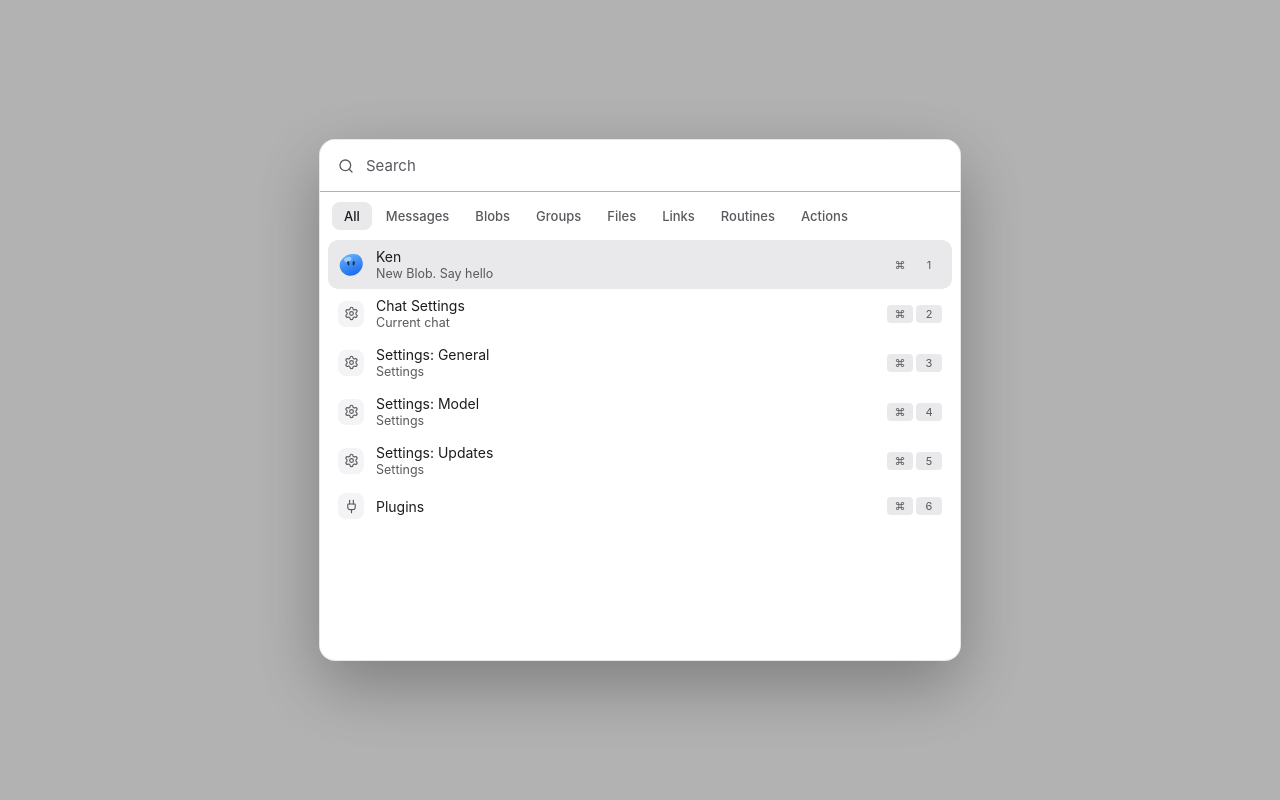
Test: SearchModal › finds the routines of a Blob the app never opened
The width and height of the screenshot is (1280, 800).
Click the button "Routines" at (748, 216), box [709, 202, 787, 230]
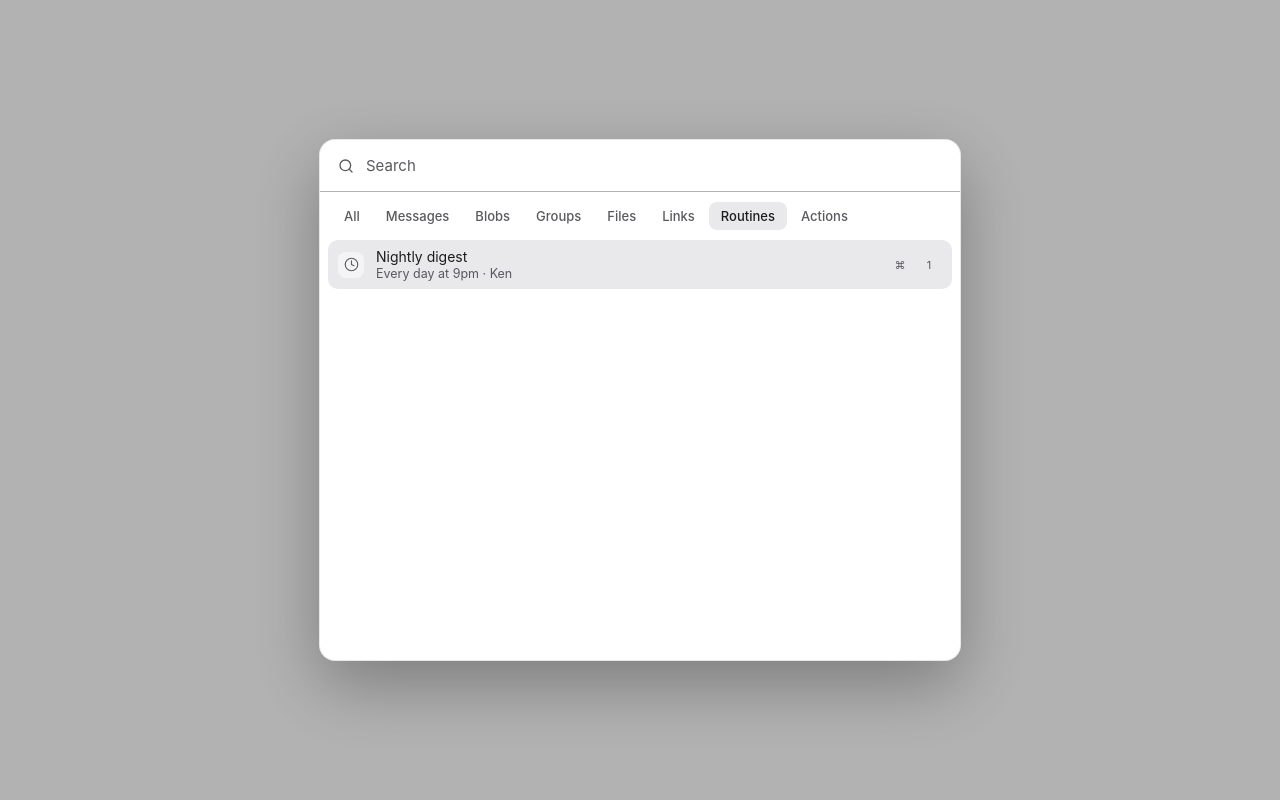
Expected: the text "Nightly digest" is shown, [376, 248, 467, 265]
Expected: the text "Every day at 9pm · Ken" is shown, [376, 266, 512, 281]
